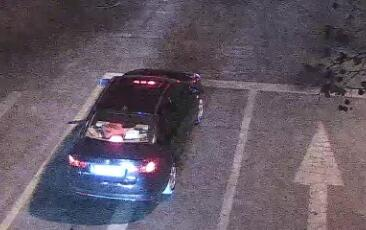car: (60, 66, 205, 205)
